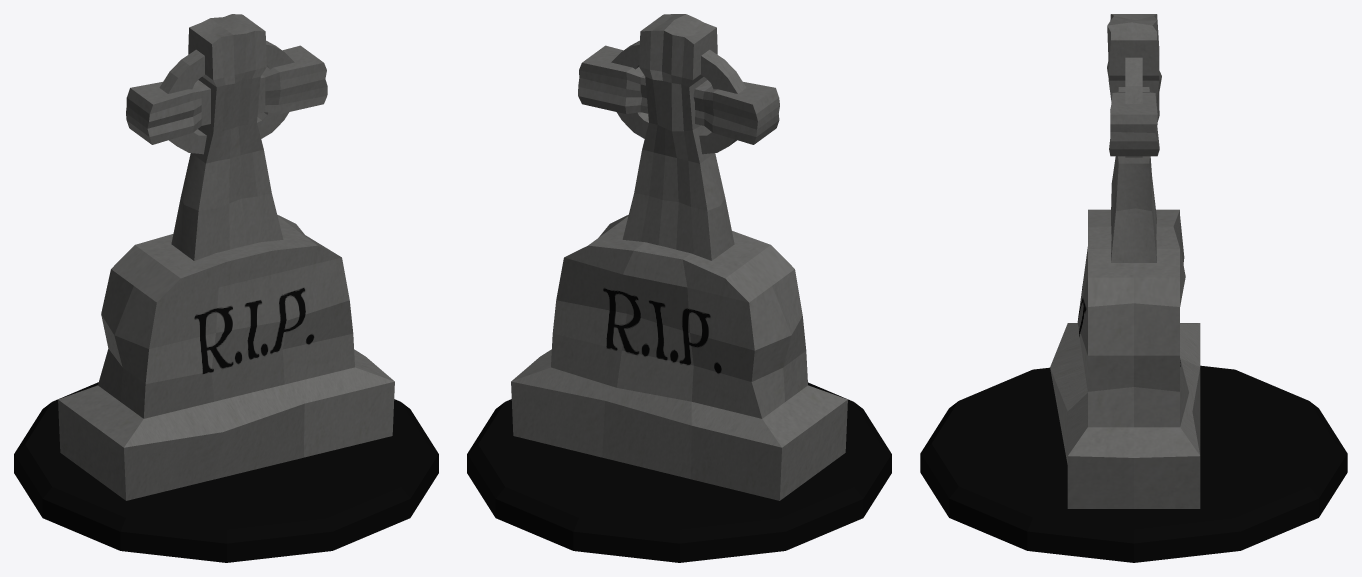
The model's file is GraveStone_2.fbx.
3 renders of one model, left to right at view 1: azimuth 30°, elevation 25°; view 2: azimuth 150°, elevation 25°; view 3: azimuth 270°, elevation 25°, orthographic.
Parts seen in each view (by area): view 1: Tombstone, Base; view 2: Tombstone, Base; view 3: Base, Tombstone.
Part boxes in pixels (box(x1,y1,x2,y2)): Tombstone: box(58, 14, 394, 500); Base: box(14, 382, 438, 562); Tombstone: box(511, 14, 847, 500); Base: box(467, 382, 891, 562); Base: box(920, 365, 1347, 562); Tombstone: box(1050, 14, 1200, 508).
Bounding box in the file's own units: 200 × 234 × 200.
